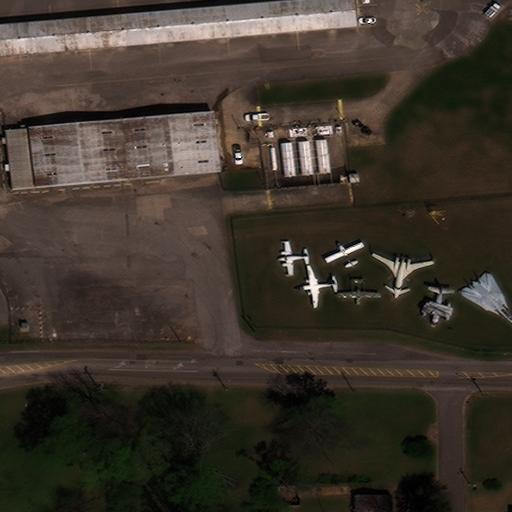Medium Civil Transport: (370, 255, 435, 297)
Military Bomber: (421, 285, 449, 327)
Military Fighter: (457, 272, 512, 323)
Small Civil Transport: (297, 264, 338, 309), (334, 276, 381, 306), (276, 242, 310, 274), (323, 240, 360, 267)
